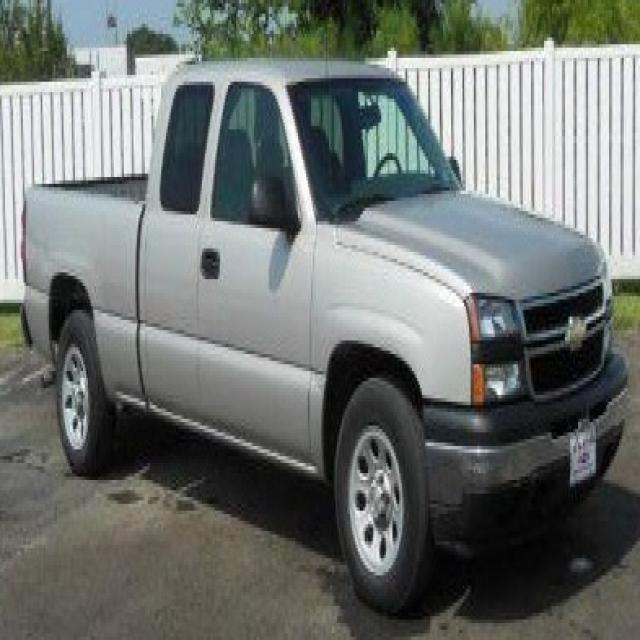CMT: (10, 66, 620, 584)
